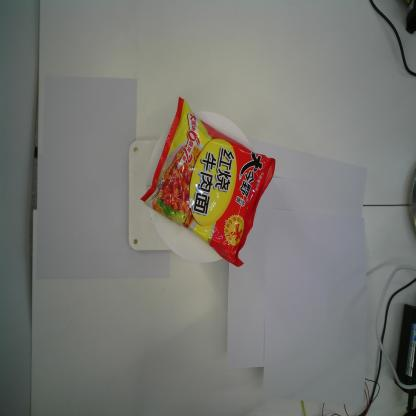Instant Noodles: (139, 96, 276, 266)
